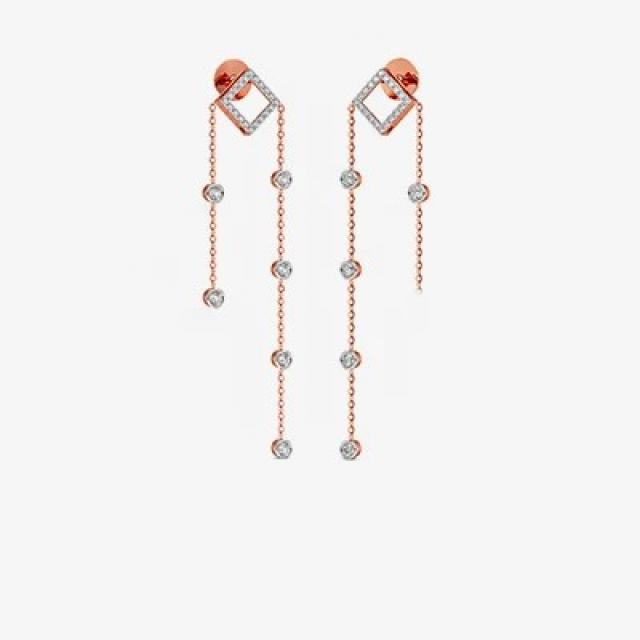missing gem: (413, 291, 425, 304)
